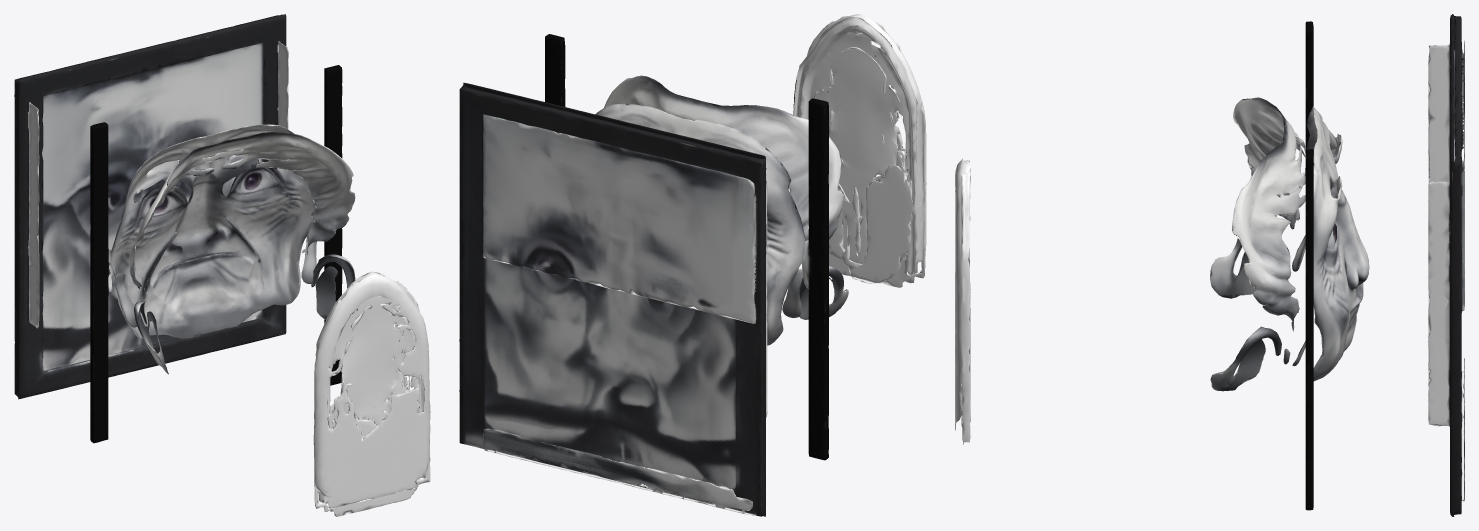
File: crypt_portrait4.glb
The picture shows the model from 3 angles, left to right: view 1: azimuth 30°, elevation 25°; view 2: azimuth 150°, elevation 25°; view 3: azimuth 270°, elevation 25°; orthographic projection. The views are drawn at different scales.
Parts seen in each view (by area): view 1: world; view 2: world; view 3: world.
Boxes of the visible parts, x1,y1,x2,y2 form: world: (14, 14, 430, 516); world: (459, 14, 926, 516); world: (955, 14, 1464, 516).
Bounding box in the file's own units: 0.6809 × 0.7772 × 1.
Materials: 1 (1 with a texture image).
